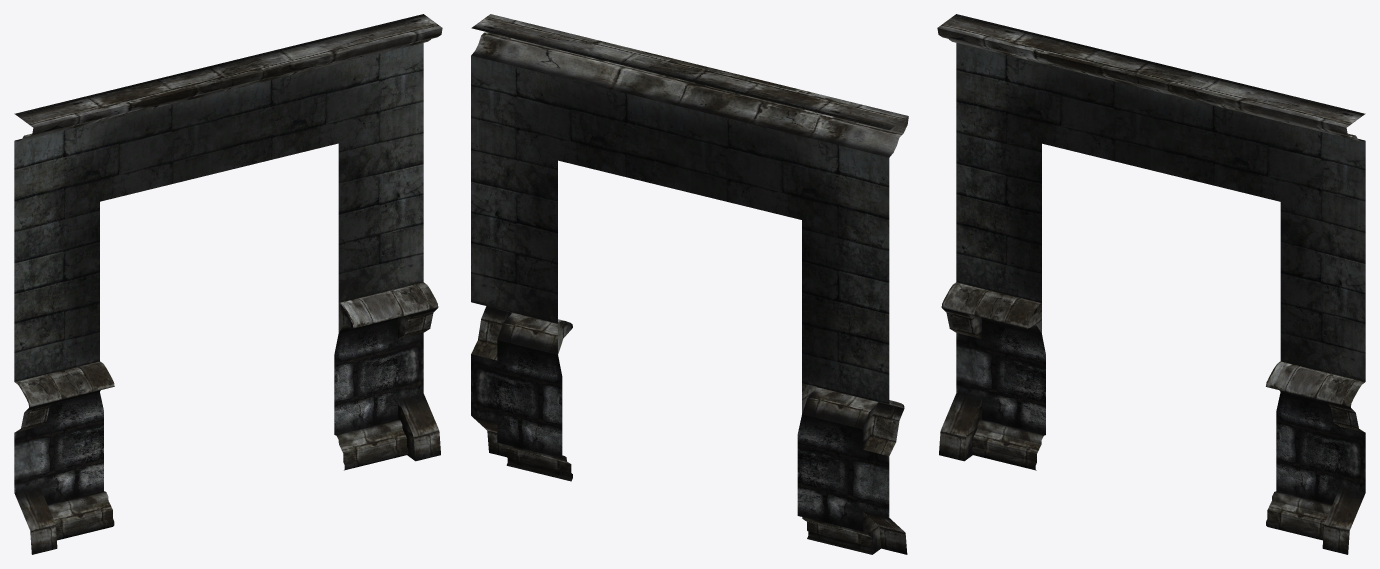
File: door_way_alt.dae
3 renders of one model, left to right at view 1: azimuth 30°, elevation 25°; view 2: azimuth 150°, elevation 25°; view 3: azimuth 330°, elevation 25°, orthographic. The views are drawn at different scales.
Visible parts, largest first — view 1: polySurface125; view 2: polySurface125; view 3: polySurface125.
Part boxes in pixels (box(x1,y1,x2,y2)): polySurface125: box(14, 14, 442, 554); polySurface125: box(471, 14, 908, 554); polySurface125: box(937, 14, 1365, 554).
Bounding box in the file's own units: 4 × 4 × 0.3219.
